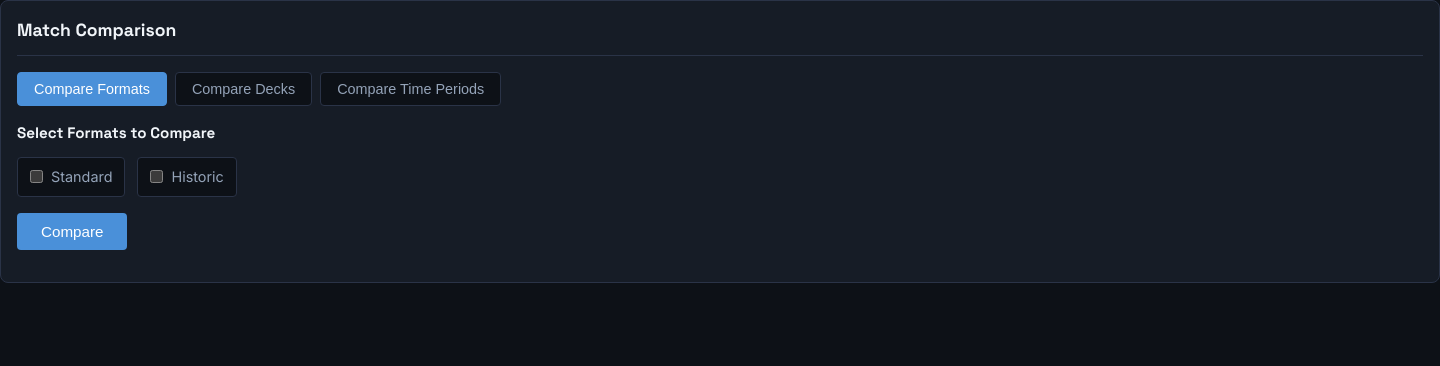
Test: MatchComparisonPanel › comparison execution › handles API errors gracefully
Note: Select formats
Click the checkbox labelled "Standard" at (36, 177), box x1=30 y1=170 x2=43 y2=184
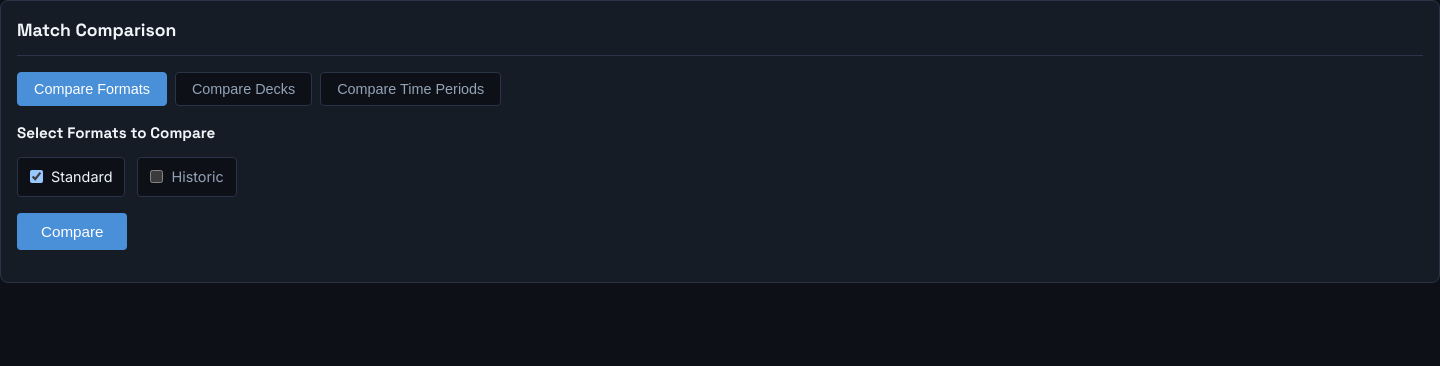
Click the checkbox labelled "Historic" at (157, 177), box x1=150 y1=170 x2=164 y2=184
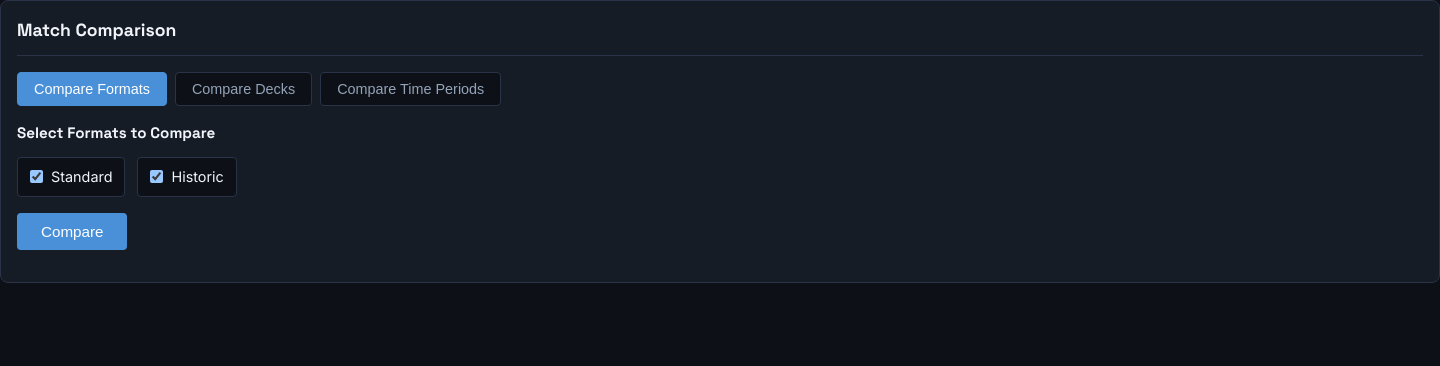
Note: Click compare
Click the button "Compare" at (72, 231), box x1=17 y1=213 x2=128 y2=250
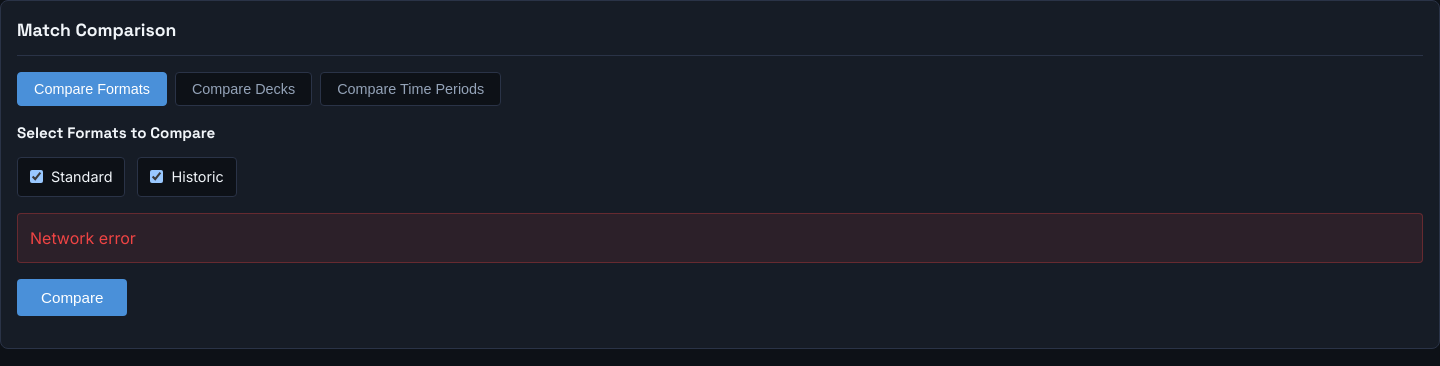
Expected: the text "Network error" is shown, x1=17 y1=213 x2=1423 y2=263
